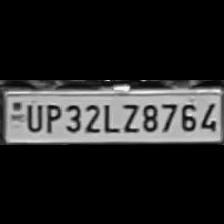2: (82, 99, 100, 133)
3: (63, 100, 81, 132)
4: (198, 97, 218, 130)
6: (176, 100, 198, 132)
7: (158, 100, 176, 132)
8: (140, 100, 158, 132)
L: (100, 100, 118, 132)
P: (42, 100, 62, 132)
U: (22, 99, 42, 131)
Z: (117, 100, 139, 132)
